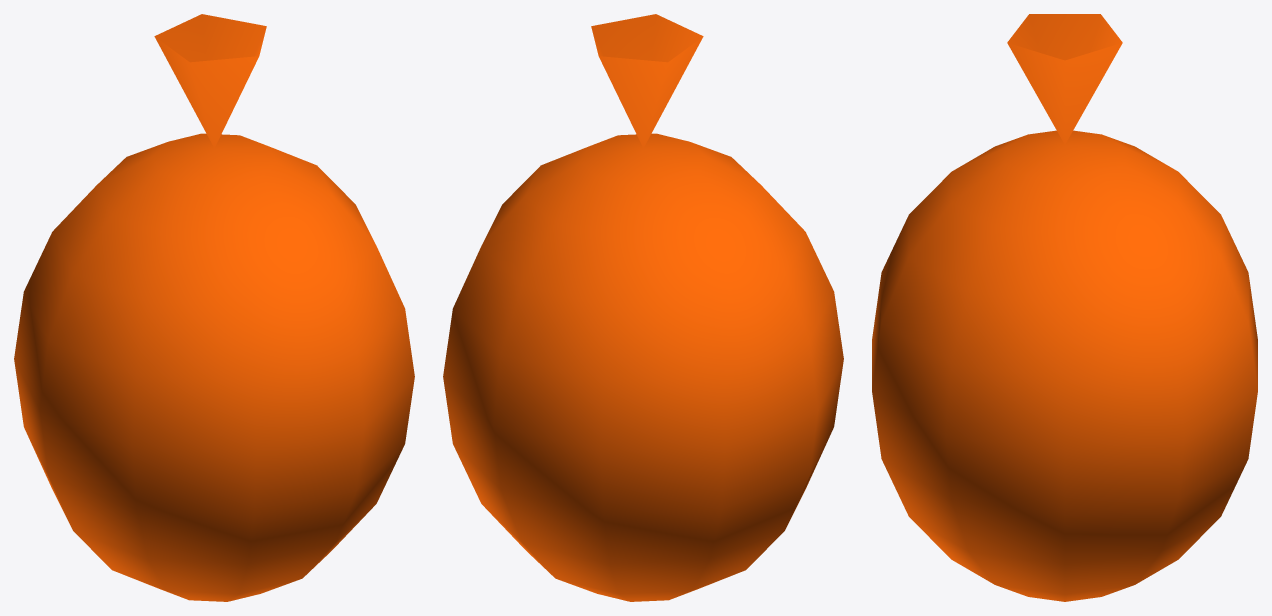
The model's file is Fênix Fuligem_stage1.obj.
The picture shows the model from 3 angles, left to right: view 1: azimuth 30°, elevation 25°; view 2: azimuth 150°, elevation 25°; view 3: azimuth 270°, elevation 25°; orthographic projection.
Size of the model in its own units: 1.6 by 2.4 by 1.52.
